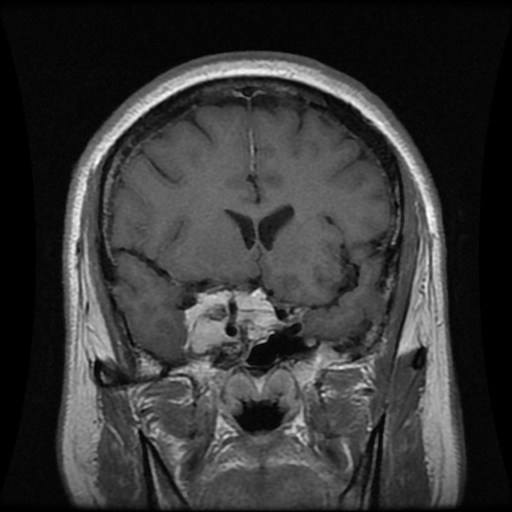meningioma: (182, 285, 281, 353)
